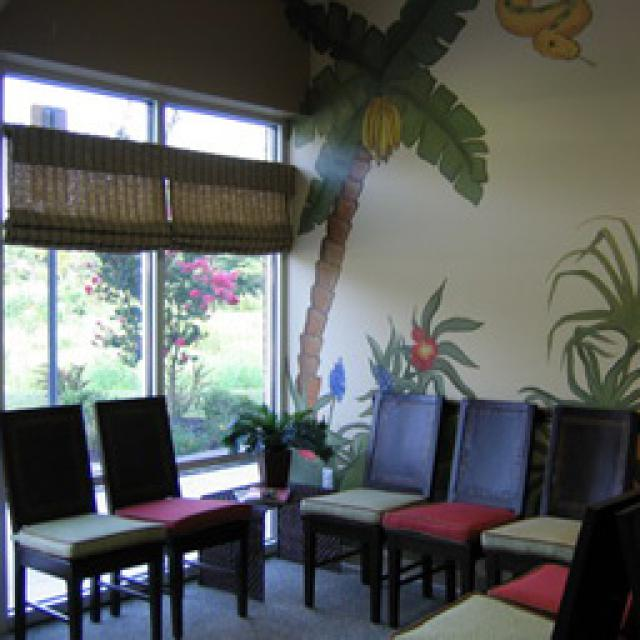2001: (0, 56, 290, 630)
chair -occluded-: (90, 390, 248, 635), (2, 400, 160, 635), (380, 395, 528, 622), (298, 388, 440, 620)
chair cushion: (390, 485, 635, 635)
chair part: (480, 402, 630, 582), (482, 558, 565, 615)
curtain crop: (2, 120, 290, 252)
floor -X: (2, 550, 635, 635)
plant -x: (220, 400, 328, 458)
table -X: (195, 478, 338, 595)
vase -X: (258, 442, 290, 500)
wall clock: (275, 0, 637, 590)
